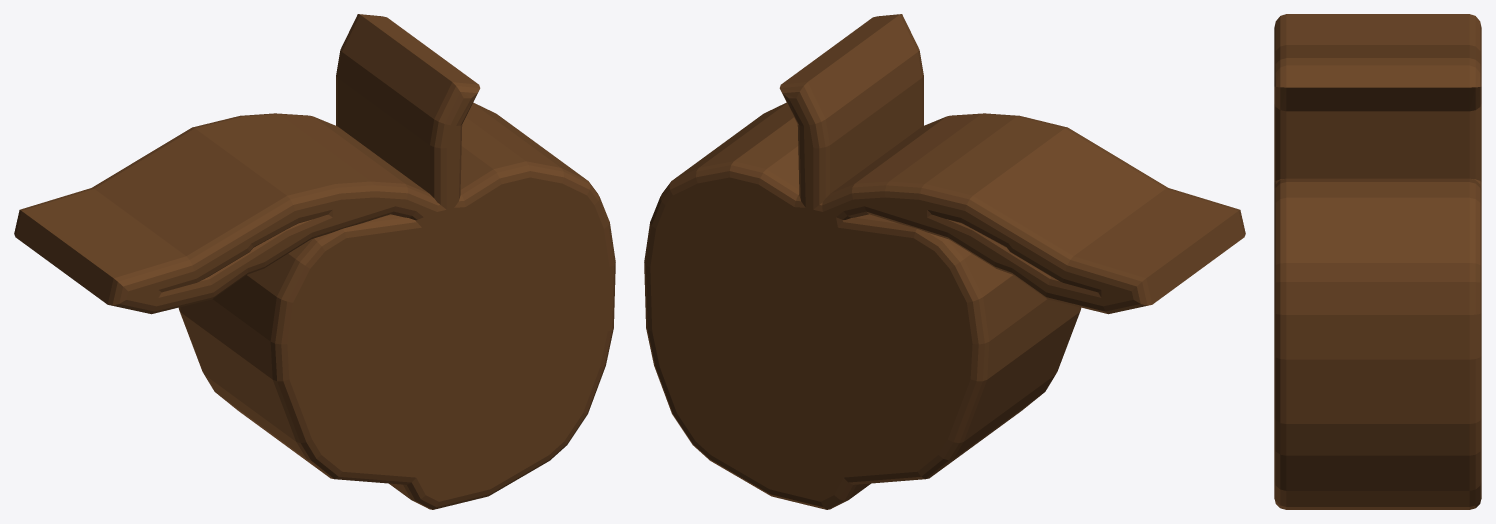
Rendered from an_apple.glb.
3 views of the same model, side by side, from view 1: azimuth 30°, elevation 25°; view 2: azimuth 150°, elevation 25°; view 3: azimuth 270°, elevation 25° (orthographic).
Parts seen in each view (by area): view 1: Contour_Extrusion_1; view 2: Contour_Extrusion_1; view 3: Contour_Extrusion_1.
Boxes of the visible parts, x1,y1,x2,y2 form: Contour_Extrusion_1: (14, 14, 615, 509); Contour_Extrusion_1: (644, 14, 1245, 509); Contour_Extrusion_1: (1274, 14, 1481, 509).
Size of the model in its own units: 1.05 by 0.8335 by 0.3742.
